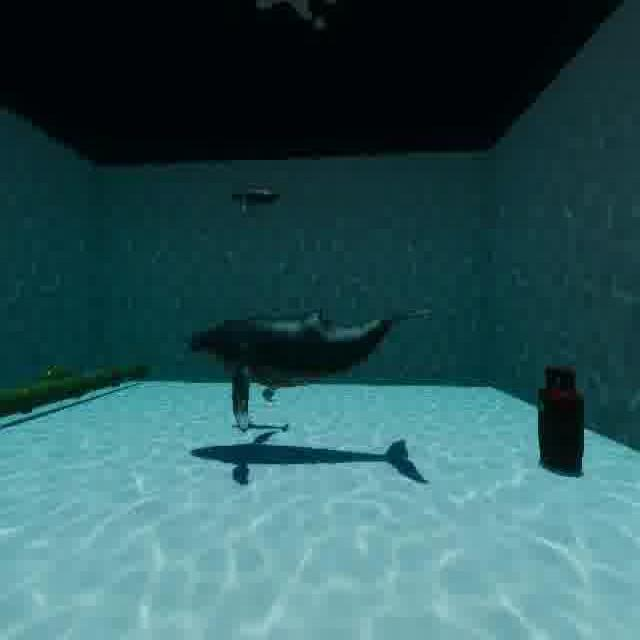Cylinder: (535, 359, 589, 481)
Pipe: (0, 336, 153, 430)
Whale: (185, 299, 442, 435), (221, 179, 295, 216)
